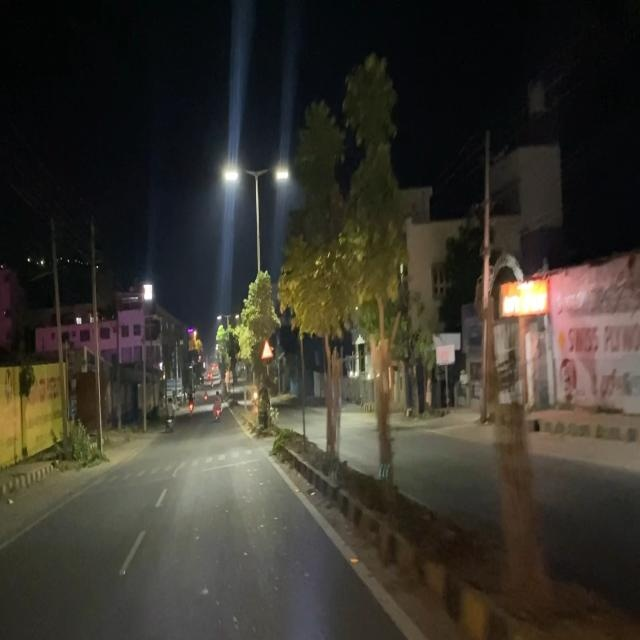bien_nguy_hiem: (260, 337, 273, 360)
